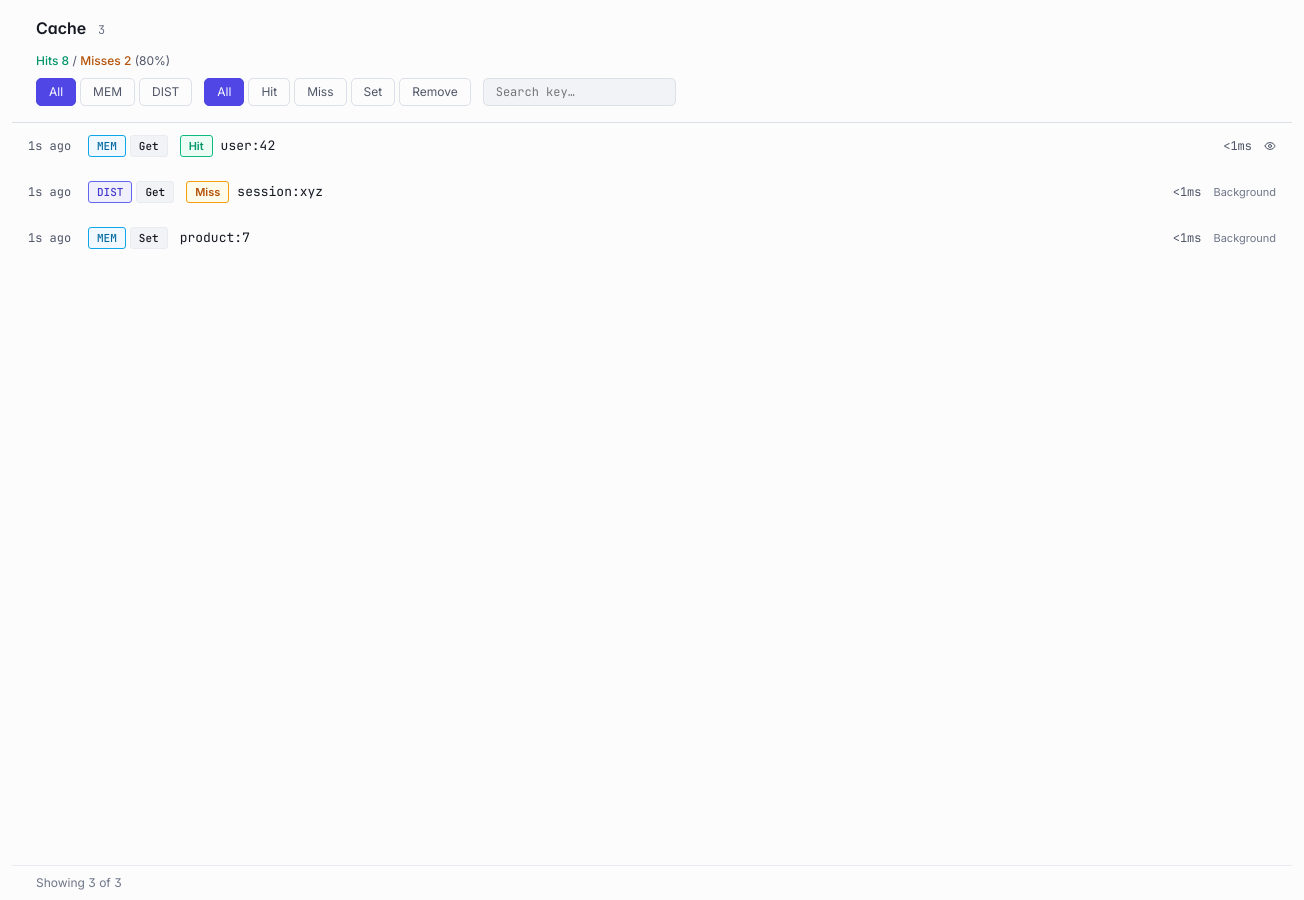
Scenario: CachePage › expands row to show full key when clicked
Expected: the text "user:42" is shown, [221,136,275,156]
Click the button "1s ago MEM Get Hit user:42 <1ms". click: (50, 146)
box: [12,123,1292,169]
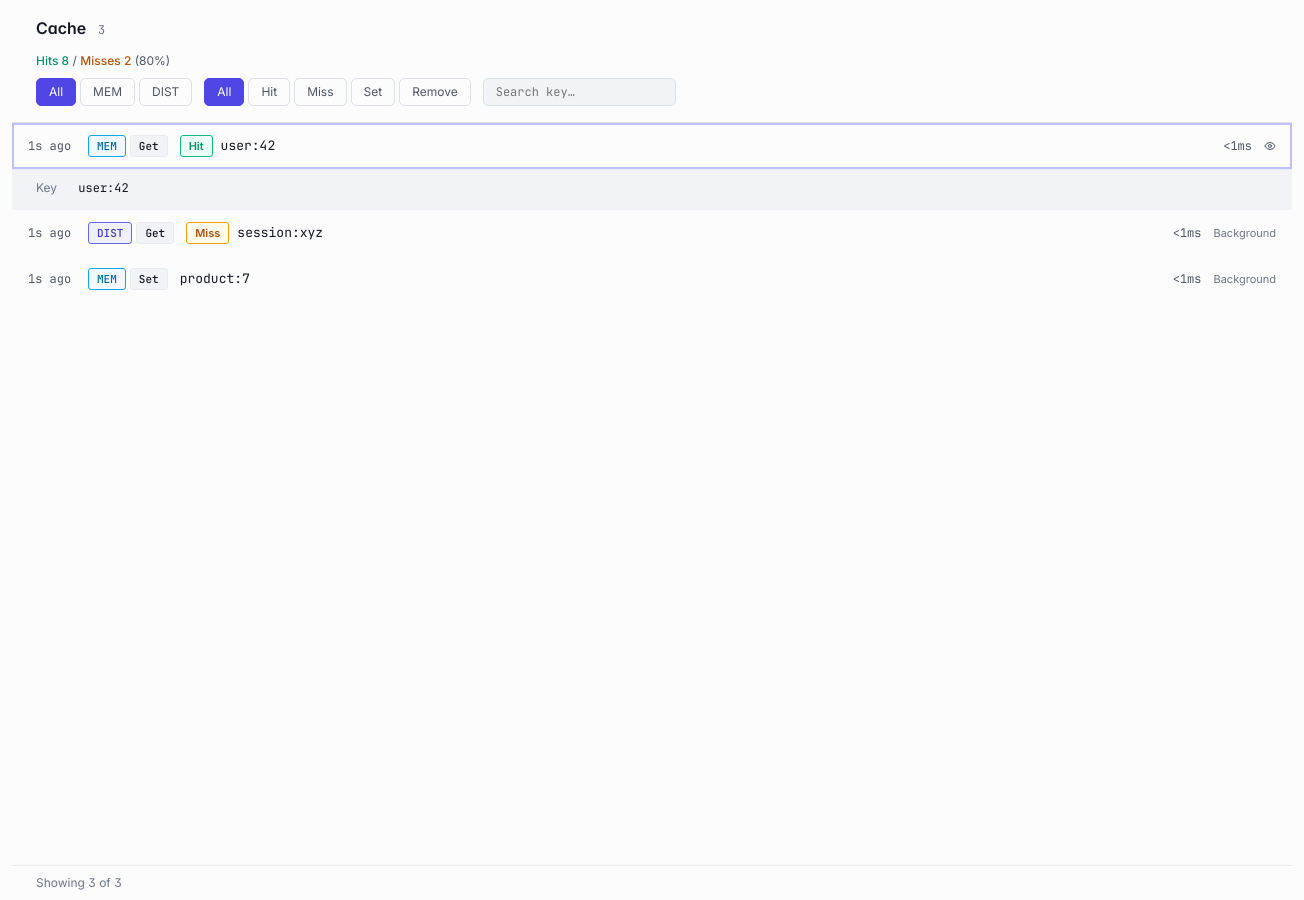
Now the element with test id "expand-id-1" is shown, box [12,169,1292,210]
